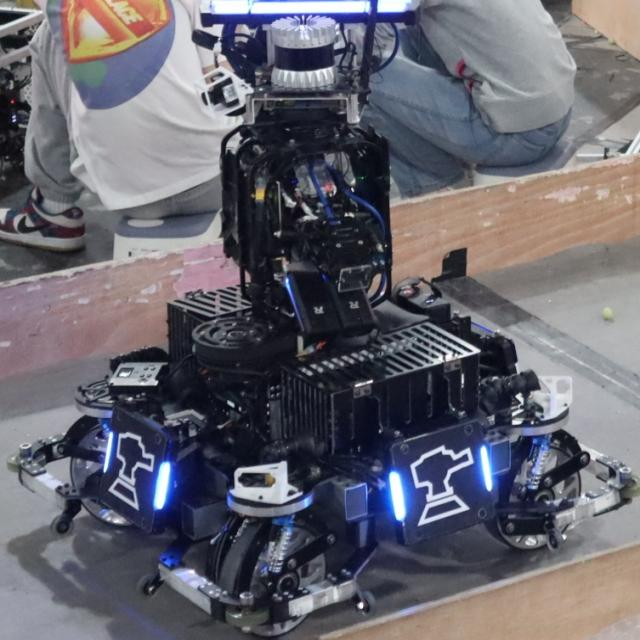Bs: (390, 440, 496, 524), (97, 420, 172, 517)
